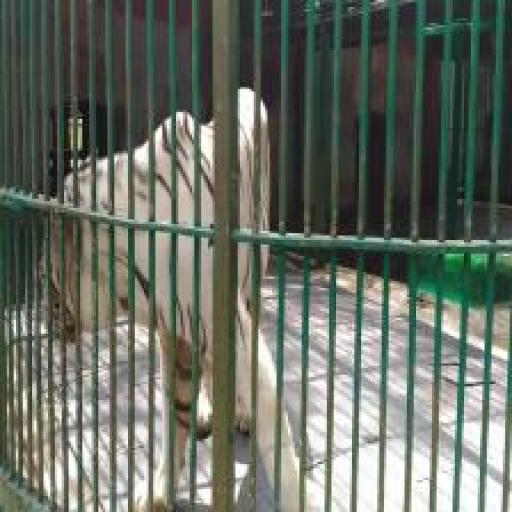Tiger: (39, 73, 326, 512)
